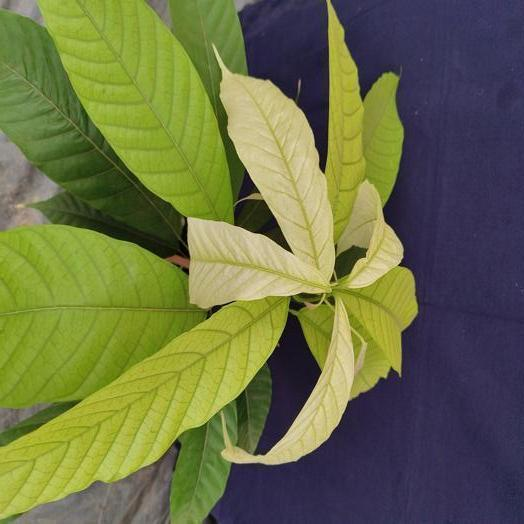Healthy Leaf: (0, 11, 178, 247), (169, 0, 247, 199), (26, 191, 170, 255), (171, 401, 236, 523), (236, 363, 271, 452)
Iron: (0, 299, 287, 516), (38, 0, 232, 220), (0, 225, 204, 407), (217, 54, 334, 280), (223, 300, 354, 463), (189, 217, 330, 307), (325, 0, 363, 241), (335, 266, 417, 373), (338, 181, 402, 288), (297, 305, 333, 368)
